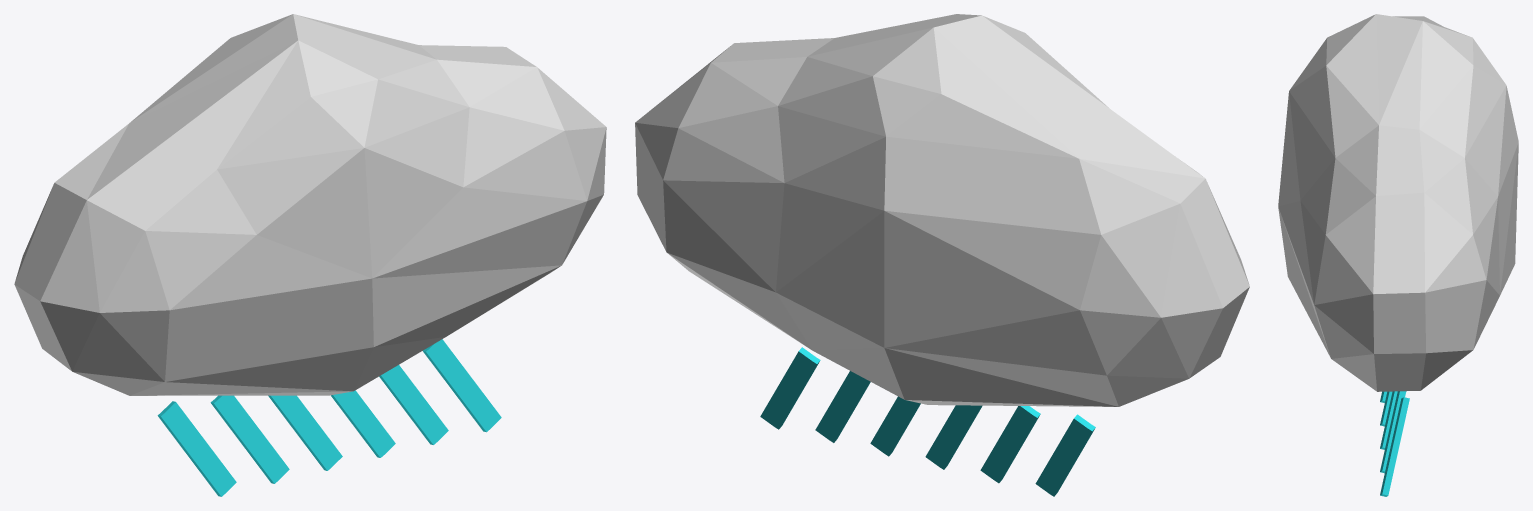
The picture shows the model from 3 angles, left to right: view 1: azimuth 30°, elevation 25°; view 2: azimuth 150°, elevation 25°; view 3: azimuth 270°, elevation 25°; orthographic projection. The views are drawn at different scales.
Parts seen in each view (by area): view 1: Mball.004, Plane; view 2: Mball.004, Plane; view 3: Mball.004, Plane.
Part boxes in pixels (x1=…): Mball.004: x1=14, y1=14, x2=606, y2=395; Plane: x1=157, y1=339, x2=501, y2=496; Mball.004: x1=635, y1=14, x2=1249, y2=406; Plane: x1=760, y1=347, x2=1095, y2=496; Mball.004: x1=1278, y1=14, x2=1518, y2=391; Plane: x1=1380, y1=391, x2=1409, y2=496.
Bounding box in the file's own units: 12.11 × 9.08 × 4.94.
